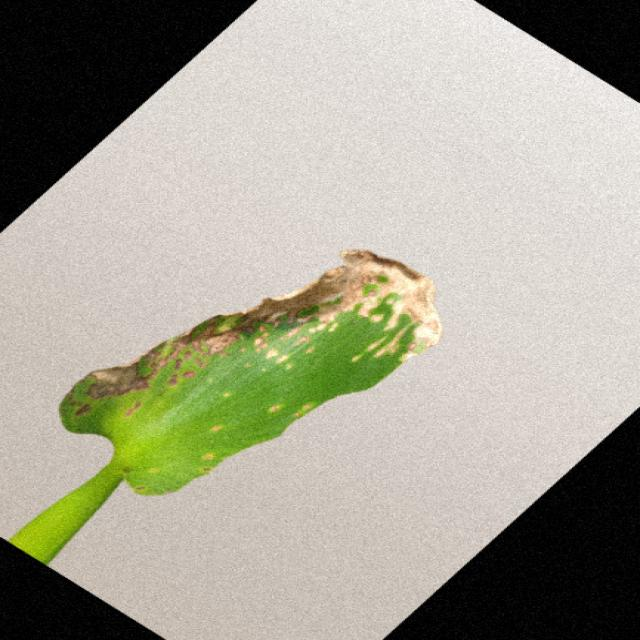daun berpenyakit bercak: (10, 251, 440, 563)
